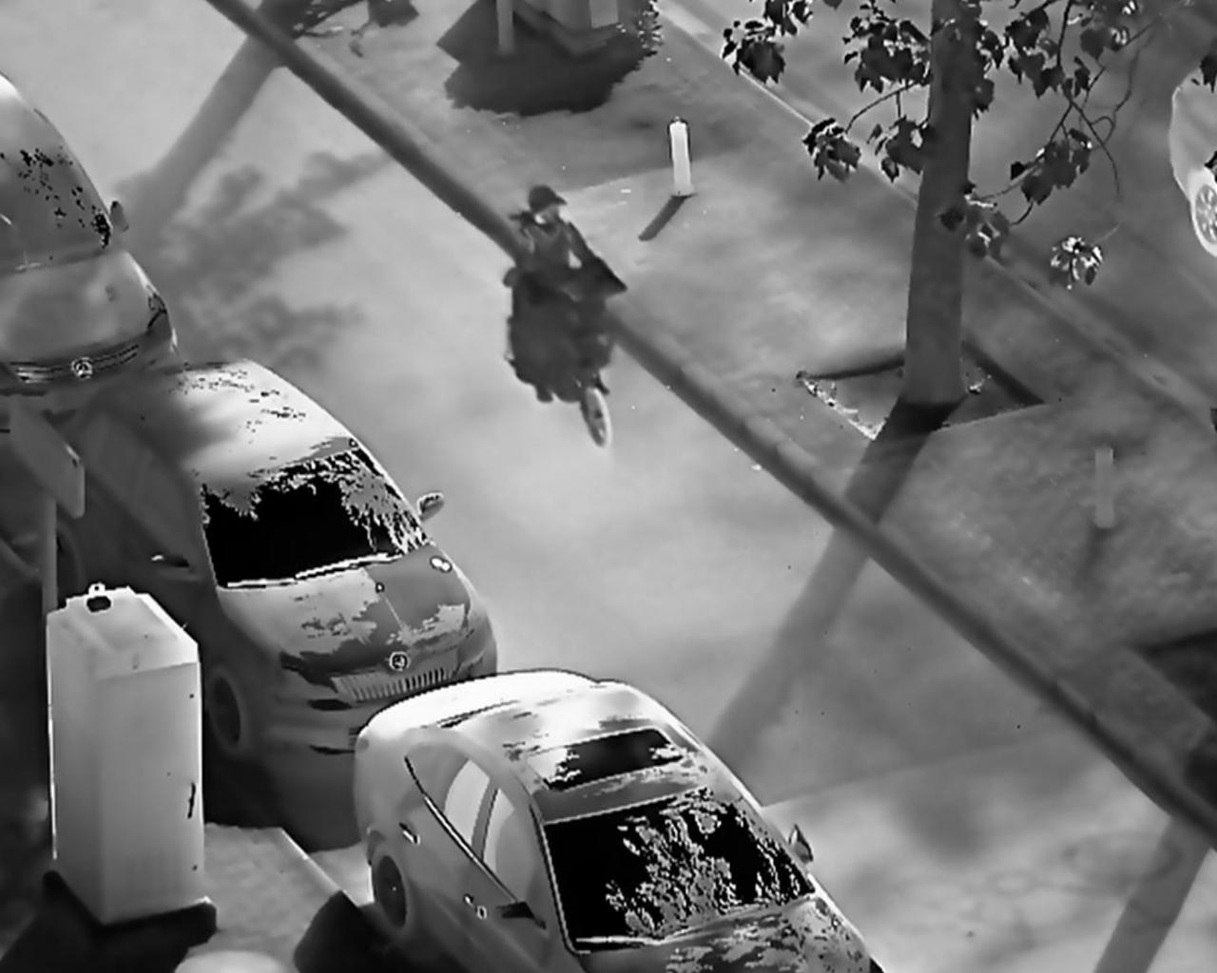person: (504, 183, 619, 393)
